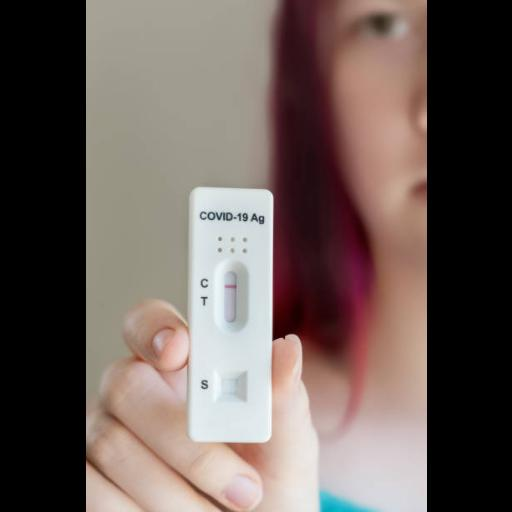Neg: (192, 188, 270, 444)
